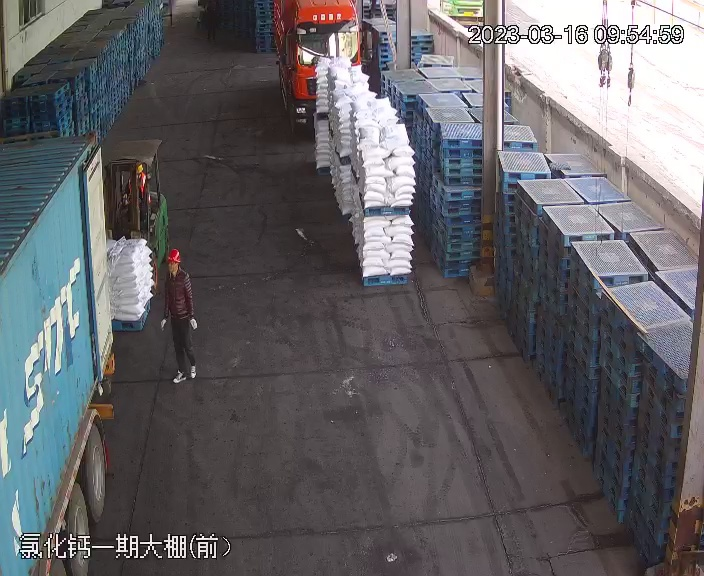head: (163, 247, 192, 289)
helmet: (165, 248, 181, 263)
people: (156, 246, 198, 386)
truck: (2, 132, 120, 575), (267, 1, 362, 118)
